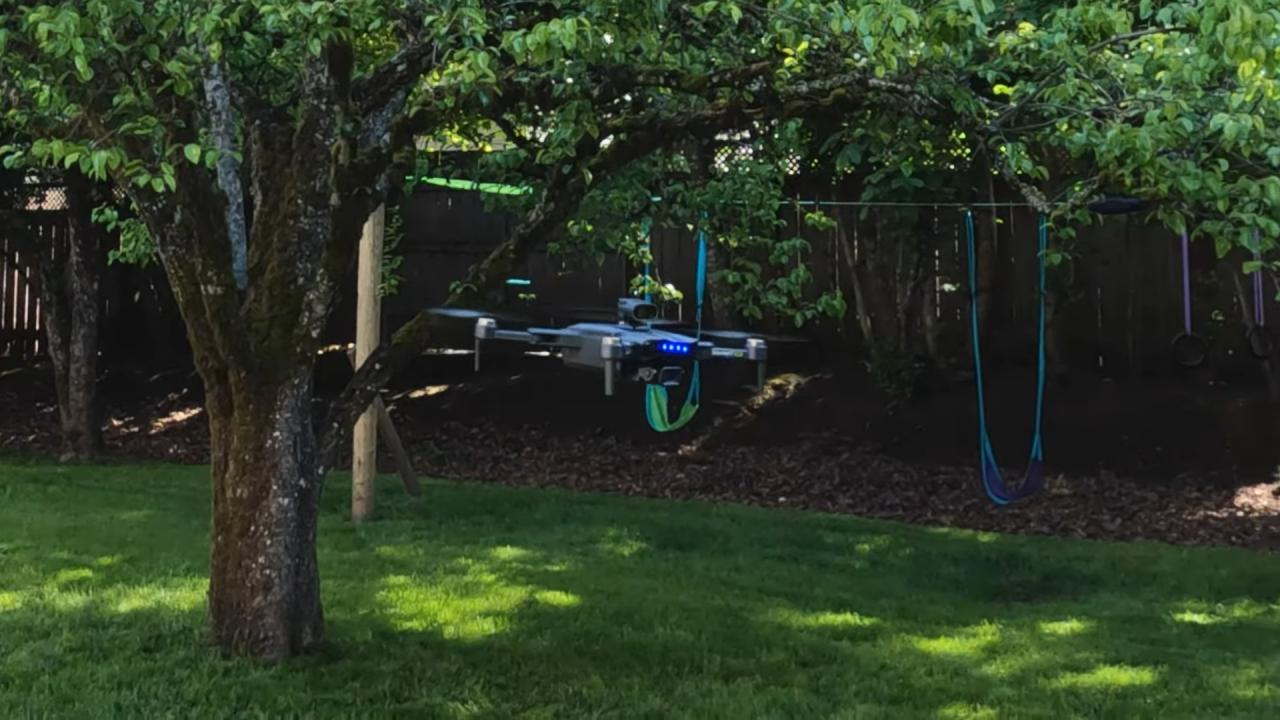Drone: (402, 276, 817, 404)
